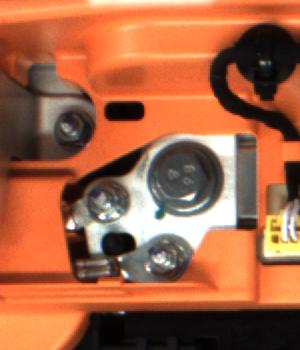nut_b: (145, 145, 221, 213)
screw_s: (85, 175, 126, 221), (142, 237, 184, 281), (49, 108, 85, 150)
